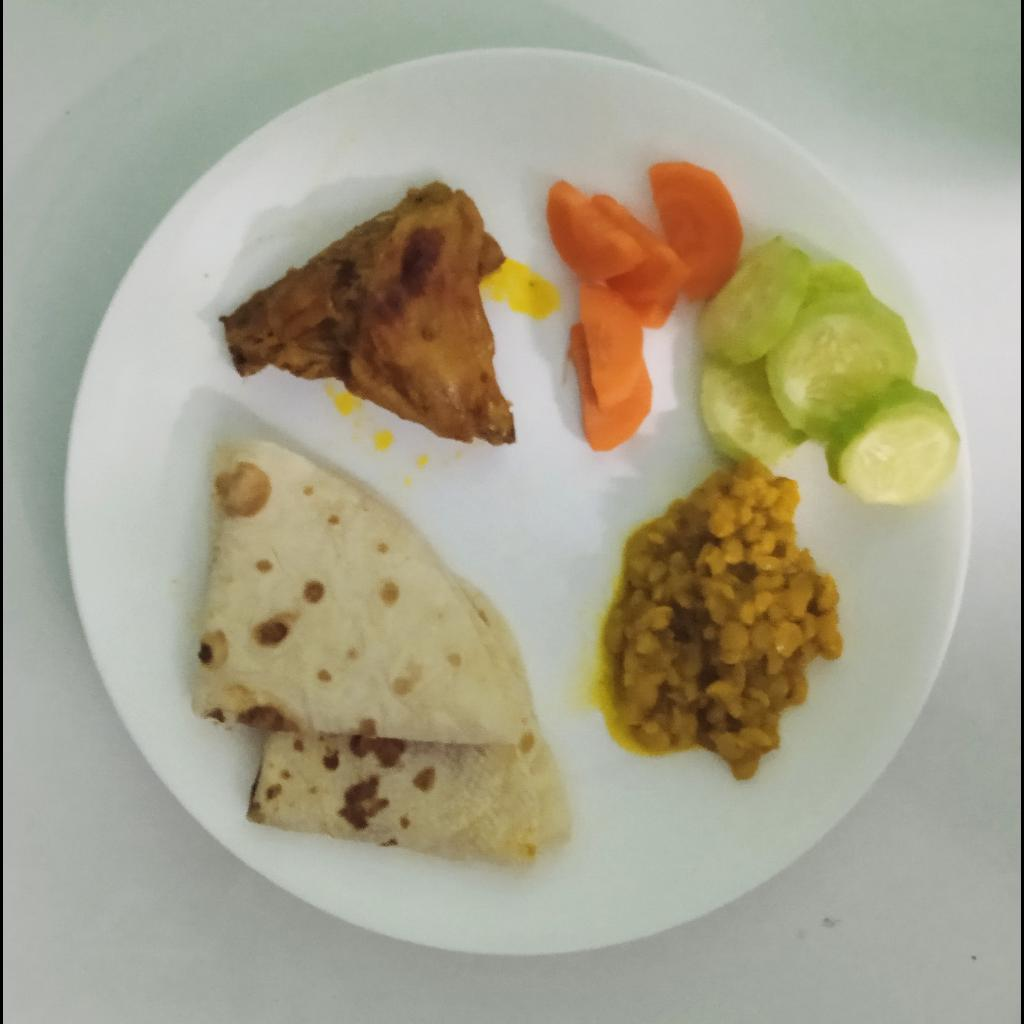carrot: (542, 162, 745, 454)
chicken: (221, 182, 521, 449)
cucumber: (695, 237, 961, 505)
daal: (608, 456, 846, 784)
ruti: (192, 442, 574, 868)
